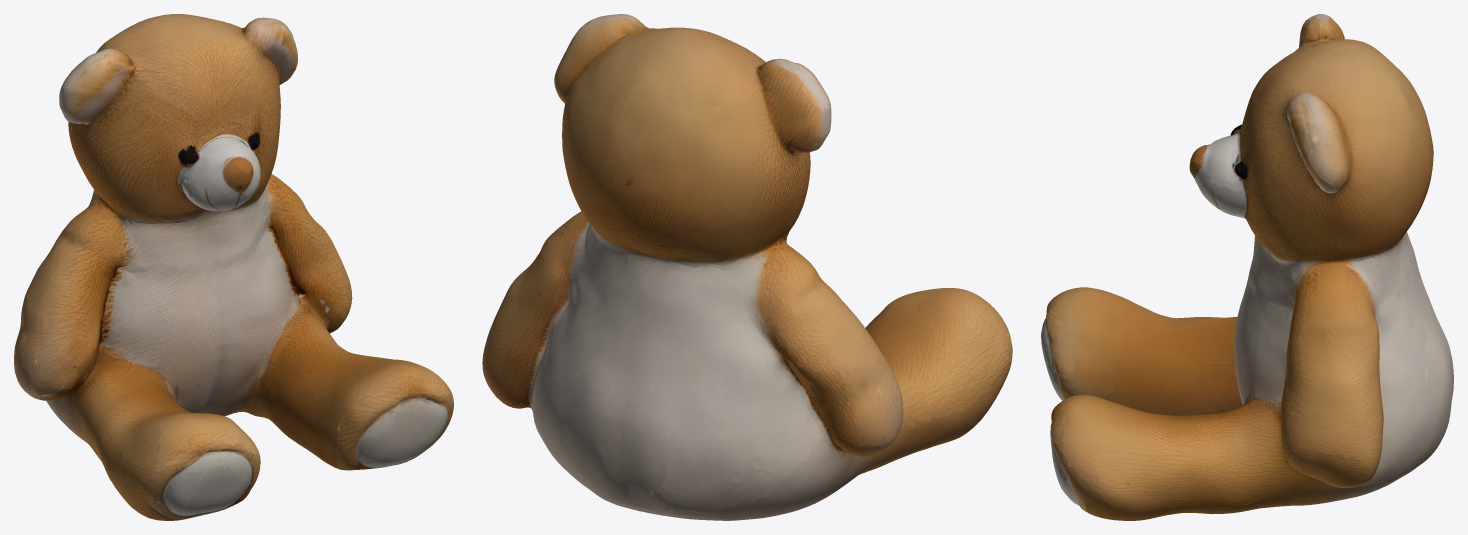
Rendered from teddy-compressed.glb.
3 views of the same model, side by side, from view 1: azimuth 30°, elevation 25°; view 2: azimuth 150°, elevation 25°; view 3: azimuth 270°, elevation 25° (orthographic). The views are drawn at different scales.
Visible parts, largest first — view 1: textured_mesh; view 2: textured_mesh; view 3: textured_mesh.
Part boxes in pixels (x1=…): textured_mesh: x1=14, y1=14, x2=453, y2=520; textured_mesh: x1=482, y1=14, x2=1012, y2=520; textured_mesh: x1=1041, y1=14, x2=1453, y2=520.
Bounding box in the file's own units: 1.8 × 2 × 1.82.
Materials: 1 (1 with a texture image).
